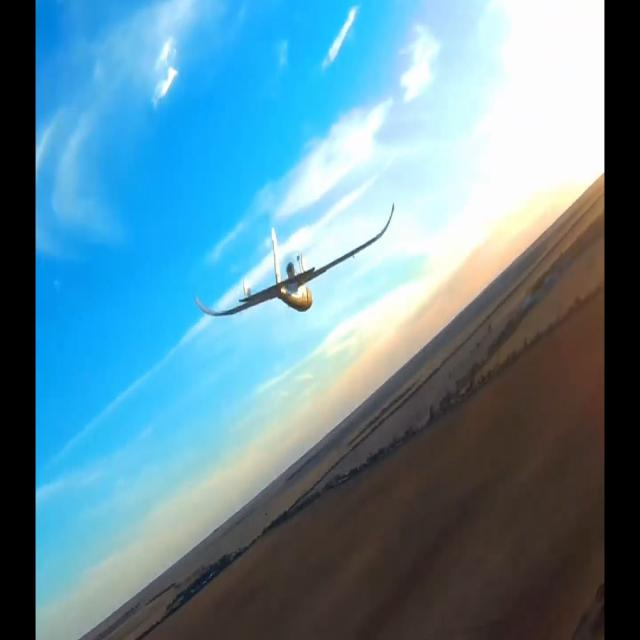iha: (196, 232, 392, 287)
